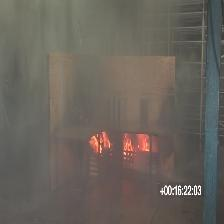fire: (121, 129, 161, 157), (87, 130, 111, 153)
